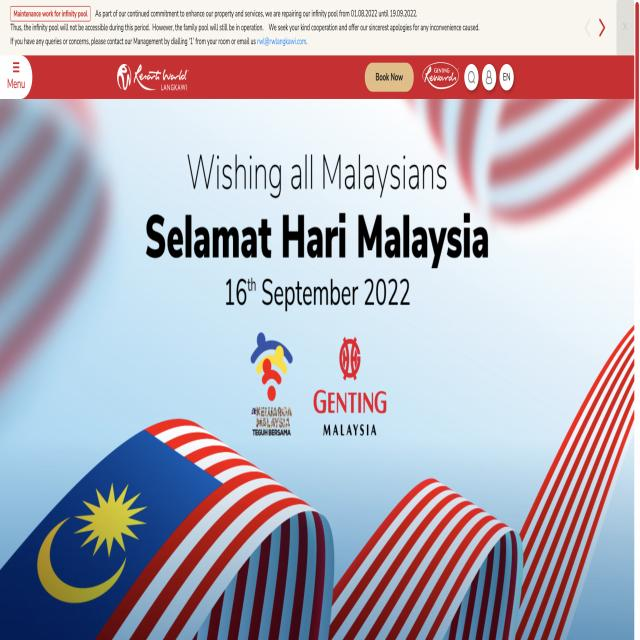Logo: (104, 54, 195, 101)
